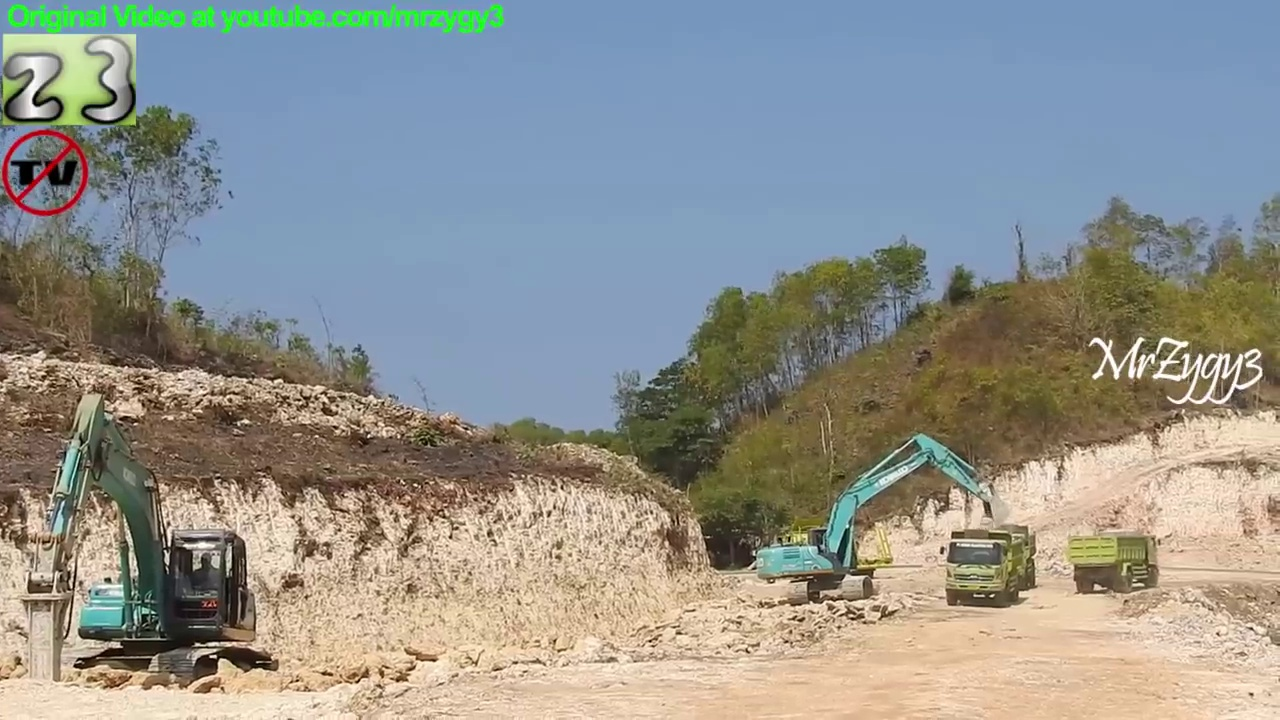excavator: (753, 431, 1012, 607)
excavator breaker: (15, 385, 278, 698)
truck: (936, 527, 1024, 610), (1064, 530, 1165, 595), (953, 523, 1040, 595)
